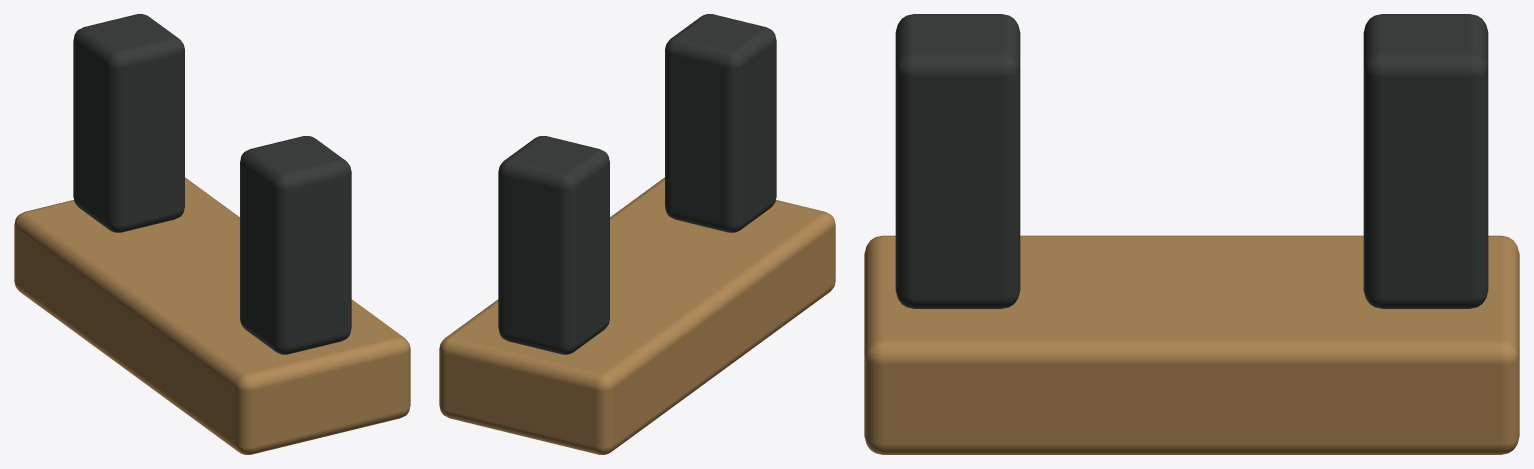
File: abandoned-puppet-theatre-and-prop-vault-scenery-track--493f526d.glb
The picture shows the model from 3 angles, left to right: view 1: azimuth 30°, elevation 25°; view 2: azimuth 150°, elevation 25°; view 3: azimuth 270°, elevation 25°; orthographic projection. The views are drawn at different scales.
Parts seen in each view (by area): view 1: scenery-track-end_0, scenery-track-end_1; view 2: scenery-track-end_0, scenery-track-end_1; view 3: scenery-track-end_0, scenery-track-end_1.
Part boxes in pixels (x1,y1,x2,y2): scenery-track-end_0: [14, 177, 410, 454]; scenery-track-end_1: [73, 14, 351, 354]; scenery-track-end_0: [439, 177, 835, 454]; scenery-track-end_1: [498, 14, 776, 354]; scenery-track-end_0: [864, 235, 1519, 454]; scenery-track-end_1: [895, 14, 1488, 308].
Size of the model in its own units: 0.18 by 0.26 by 0.42.
